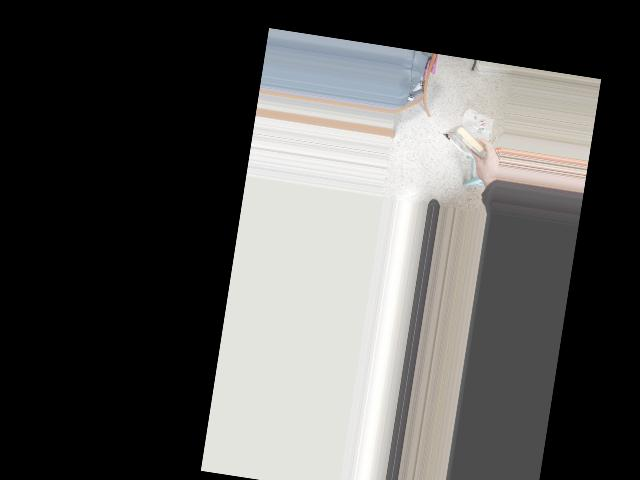cheese: (439, 120, 501, 165)
